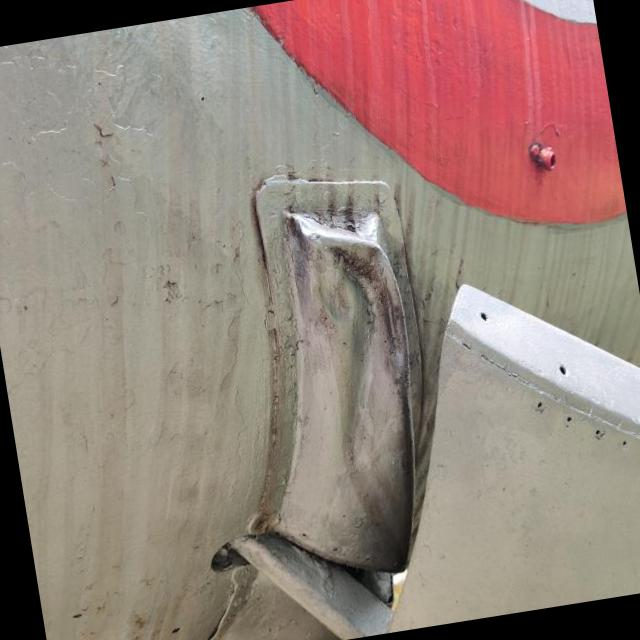Dent: (280, 211, 415, 572)
